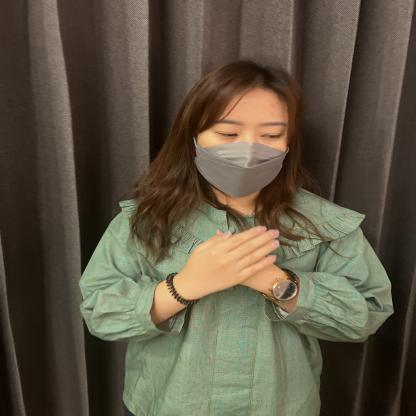Grieve: (62, 199, 327, 302)
